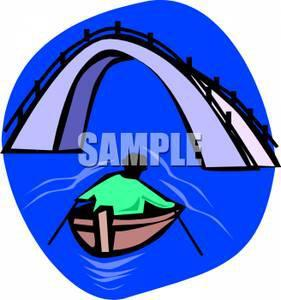boat: (64, 206, 181, 254)
person: (70, 151, 182, 213)
